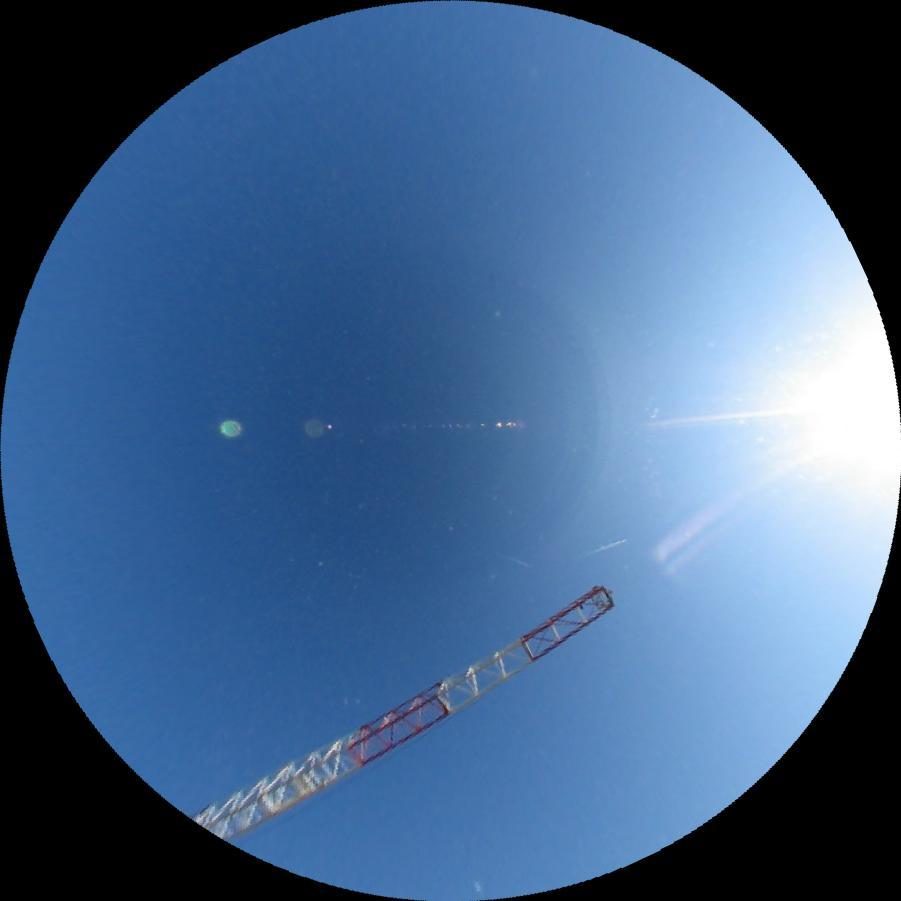contrail young: (583, 534, 629, 559), (498, 552, 529, 567)
parasite: (649, 448, 801, 563), (651, 407, 794, 424)
